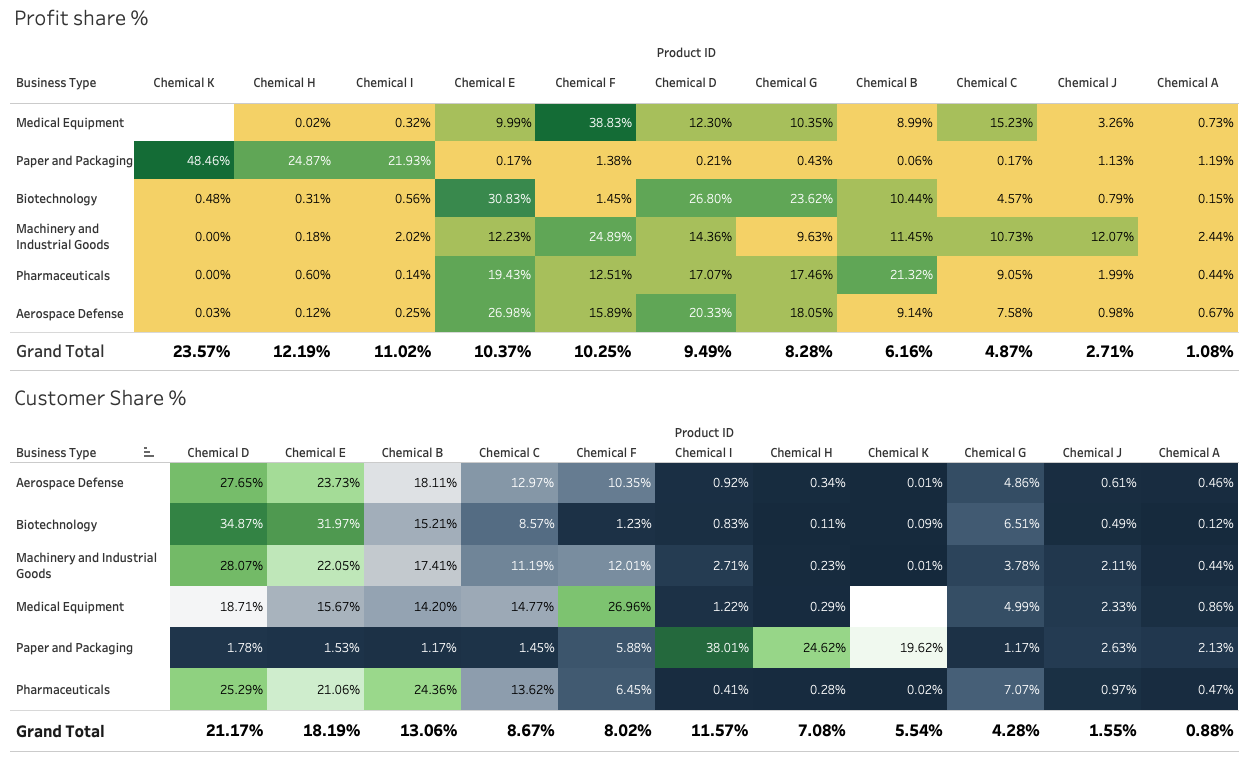

Layout of this report page (visuals, bound fields, positions):
{"tool":"tableau","page":{"name":"Popularity","canvas":[1000,1000],"units":"permille","ordinal":4},"visuals":[{"type":"worksheet","title":"% profit","mark":"Square","rows":["Business Type"],"cols":["Product ID"],"box":[4.7,8.1,990.6,491.9]},{"type":"worksheet","title":"% of customers","mark":"Square","rows":["Business Type"],"cols":["Product ID"],"box":[4.7,500,990.6,491.9]}]}

Visuals, with their boxes on the dashboard's canvas, which has no fixed pixel size, in thousandths of its width and height (x1, y1, x2, y2). These are canvas units, not pixel positions in the 1247x761 screenshot, which may show the page scaled, cropped or inside an application window:
"% profit" worksheet (Square marks): x1=5 y1=8 x2=995 y2=500
"% of customers" worksheet (Square marks): x1=5 y1=500 x2=995 y2=992
